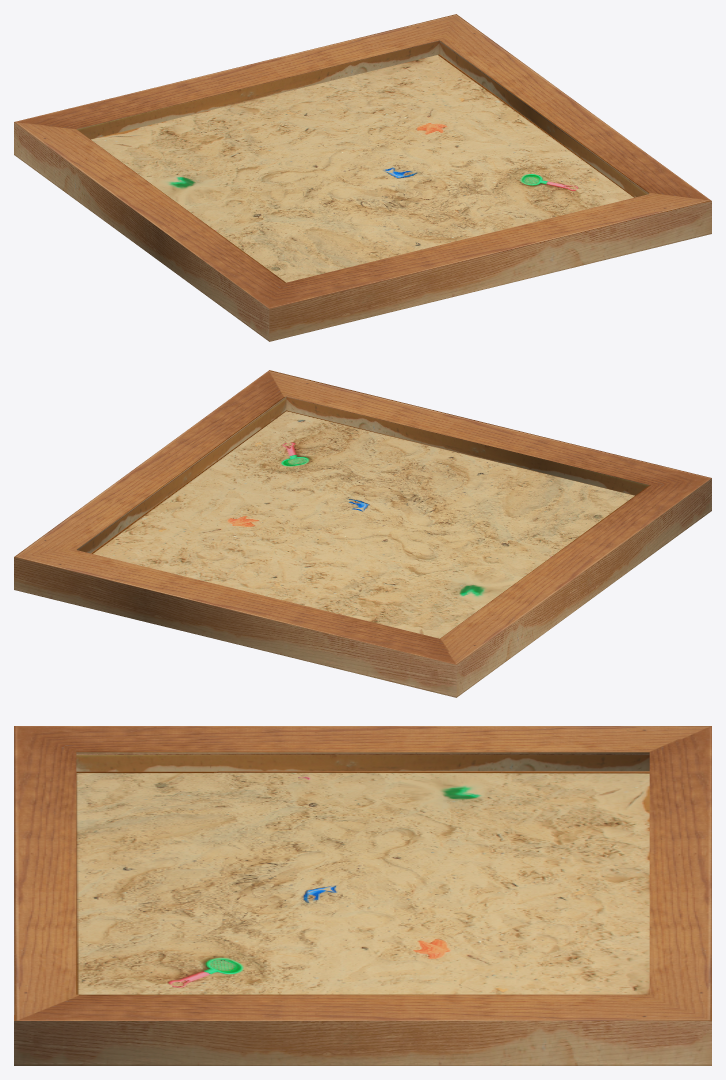
File: sandbox_lod.FBX
3 renders of one model, top to bottom at view 1: azimuth 30°, elevation 25°; view 2: azimuth 150°, elevation 25°; view 3: azimuth 270°, elevation 25°, orthographic. The views are drawn at different scales.
Visible parts, largest first — view 1: Plane001; view 2: Plane001; view 3: Plane001.
Boxes of the visible parts, left/top/right/bottom form: Plane001: left=14, top=14, right=711, bottom=341; Plane001: left=14, top=370, right=711, bottom=697; Plane001: left=14, top=726, right=711, bottom=1065.
Bounding box in the file's own units: 45.23 × 3.21 × 45.23.
